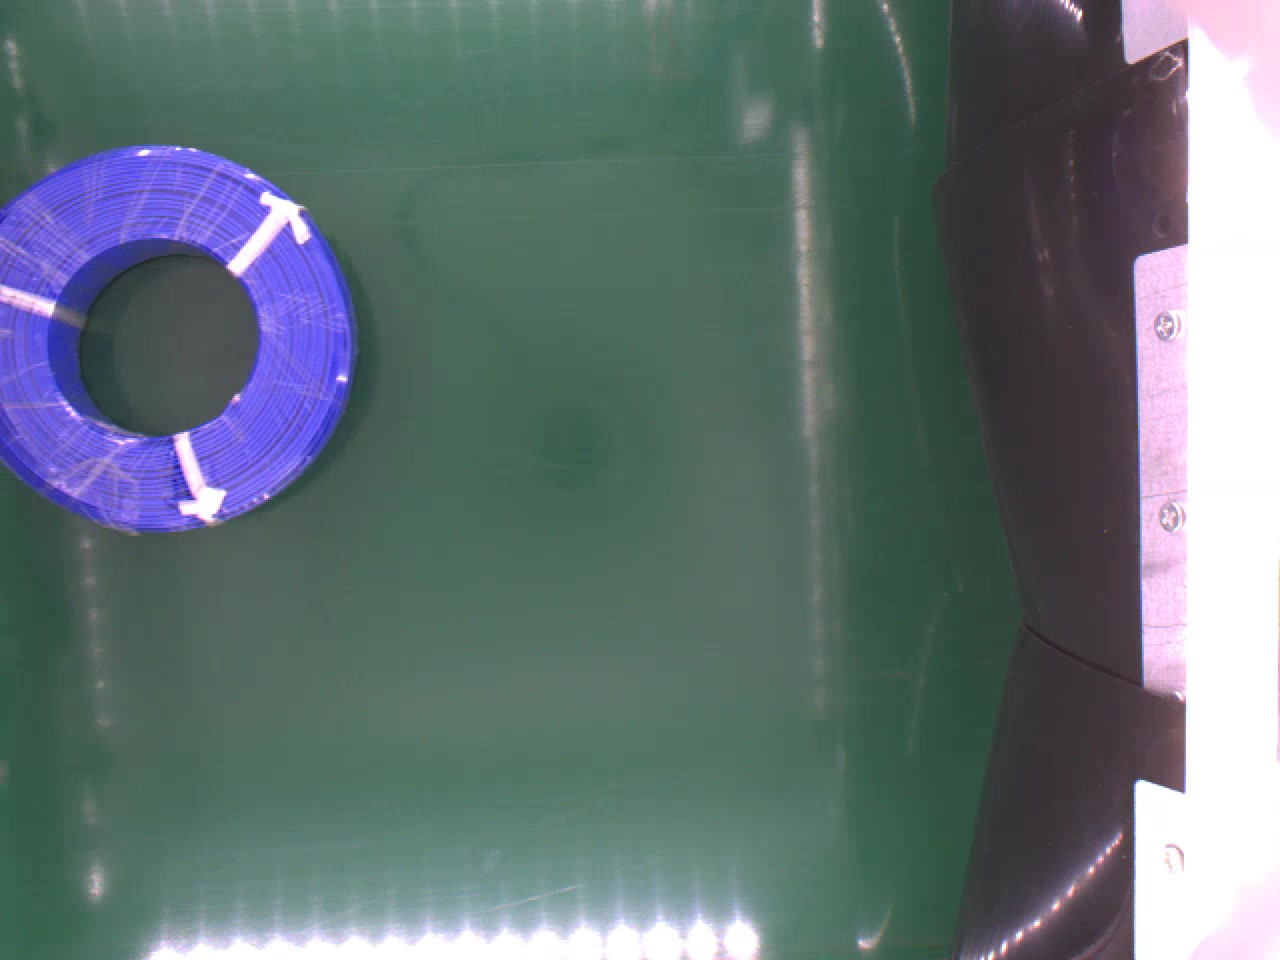blue: (0, 139, 364, 537)
